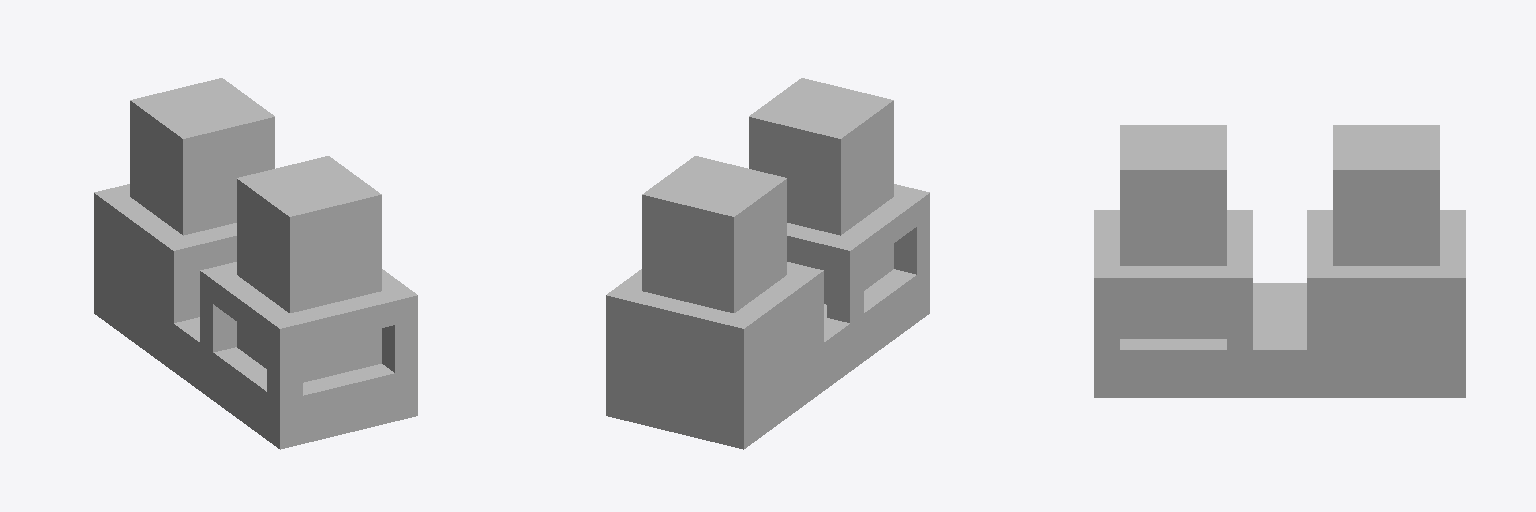
The model's file is line_access.obj.
3 renders of one model, left to right at view 1: azimuth 30°, elevation 25°; view 2: azimuth 150°, elevation 25°; view 3: azimuth 270°, elevation 25°, orthographic.
Visible parts, largest first — view 1: Cube.003_Cube.000, connector.002, Cube; view 2: connector.002, Cube.003_Cube.000, Cube; view 3: connector.002, Cube.003_Cube.000, Cube.
Boxes of the visible parts, x1,y1,x2,y2 form: Cube.003_Cube.000: [200, 156, 417, 400]; connector.002: [94, 78, 274, 322]; Cube: [94, 266, 417, 449]; connector.002: [606, 156, 823, 400]; Cube.003_Cube.000: [749, 78, 929, 322]; Cube: [606, 266, 929, 449]; connector.002: [1307, 125, 1465, 349]; Cube.003_Cube.000: [1094, 125, 1252, 349]; Cube: [1094, 283, 1465, 397].
Bounding box in the file's own units: 0.375 × 0.5625 × 0.875.